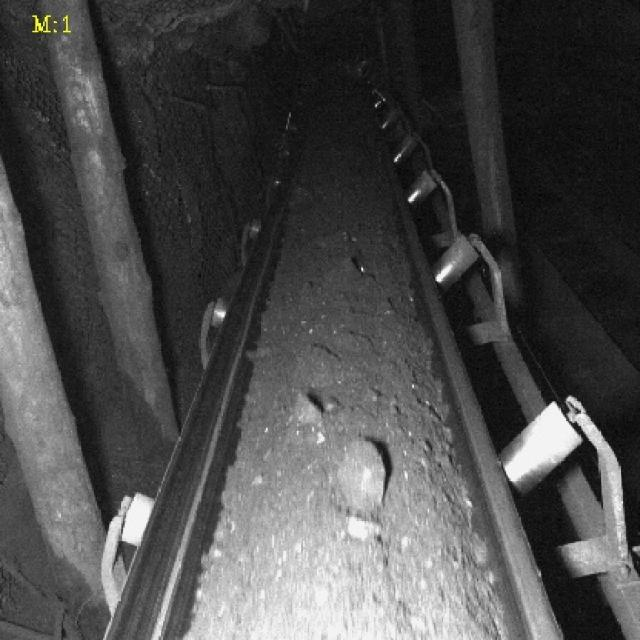large_sized_coal: (336, 435, 390, 508), (288, 392, 324, 448), (344, 514, 382, 543)
